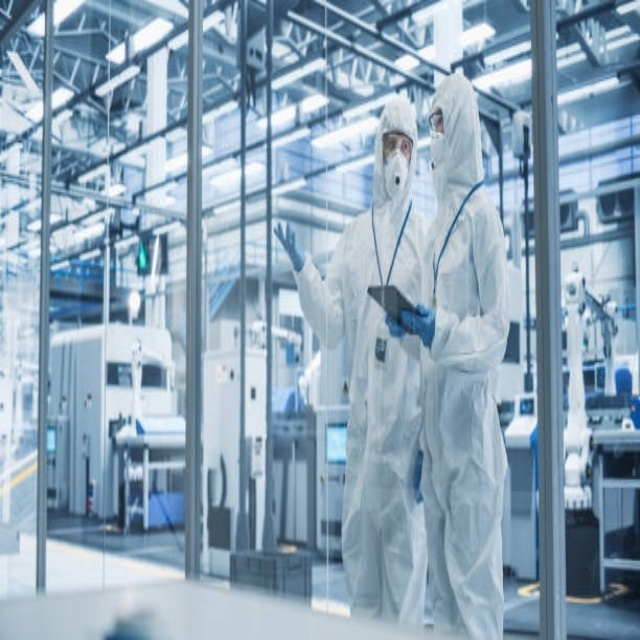Gafas: (382, 133, 413, 163), (428, 111, 444, 137)
Guantes: (272, 216, 306, 271), (401, 295, 438, 345)
Mascara: (382, 147, 409, 199), (429, 130, 445, 173)
